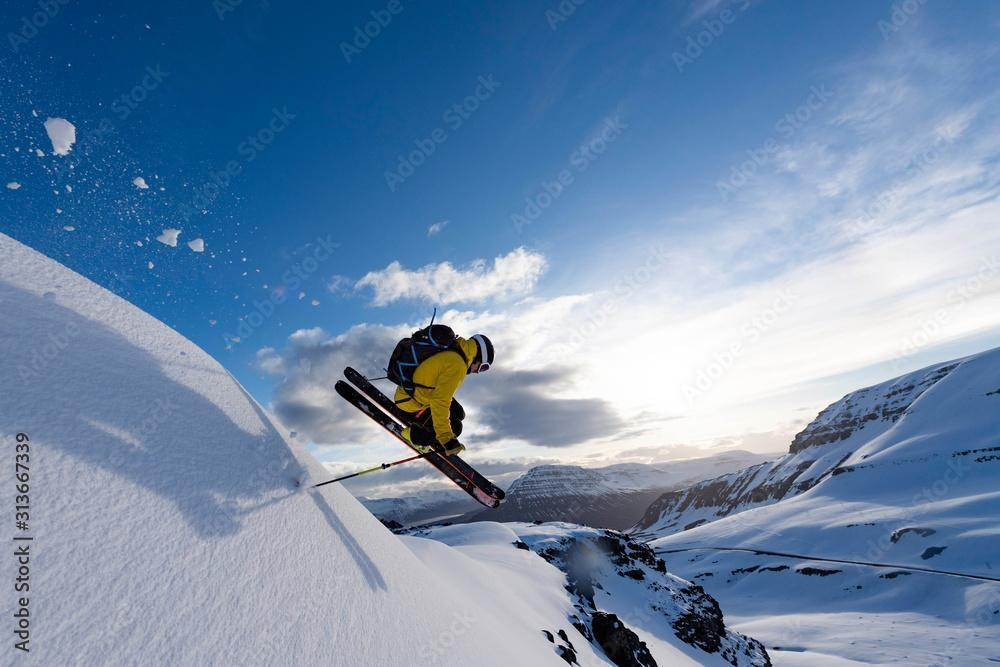Skis: (287, 360, 509, 546)
